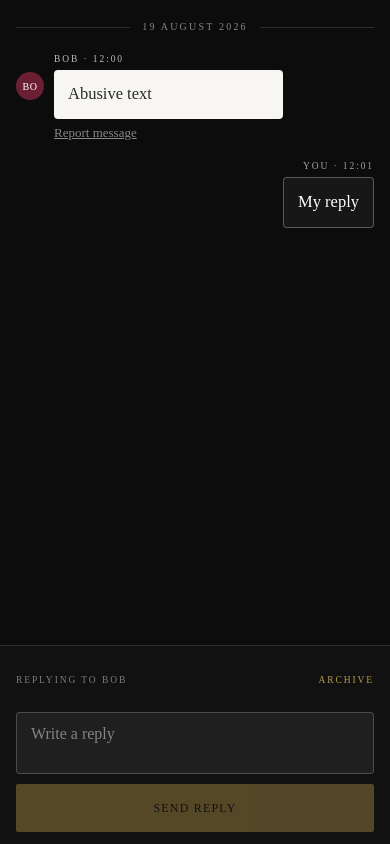
Test: ConversationScreen › lets a member report someone else's message with an optional reason
Expected: the text "Abusive text" is shown, 68,84 -> 152,103
Expected: the text "My reply" is shown, 298,190 -> 359,215
Step 1. Click the button "Report message" → coordinates (95, 133), box 54,125 -> 137,141
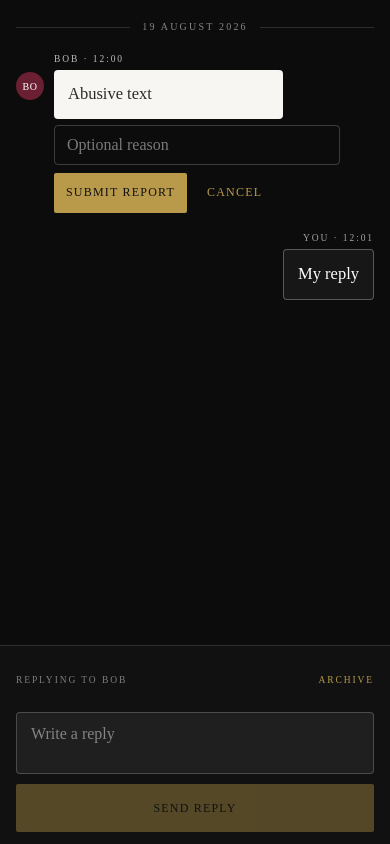
Step 2. Type "Harassment" into the field labelled "Optional reason" → coordinates (197, 145), box 54,125 -> 340,165
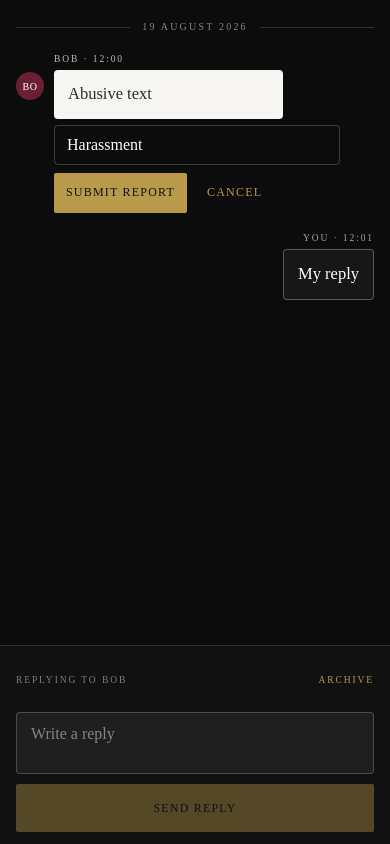
Step 3. Click the button "Submit report" → coordinates (120, 193), box 54,173 -> 187,213
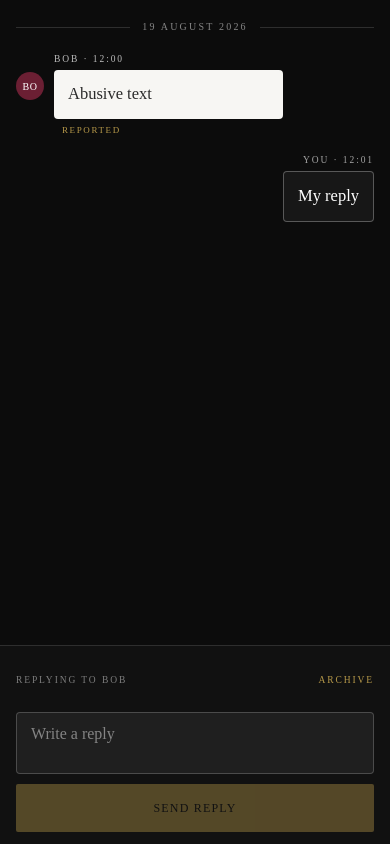
Expected: the text "REPORTED" is shown, 62,125 -> 121,135
